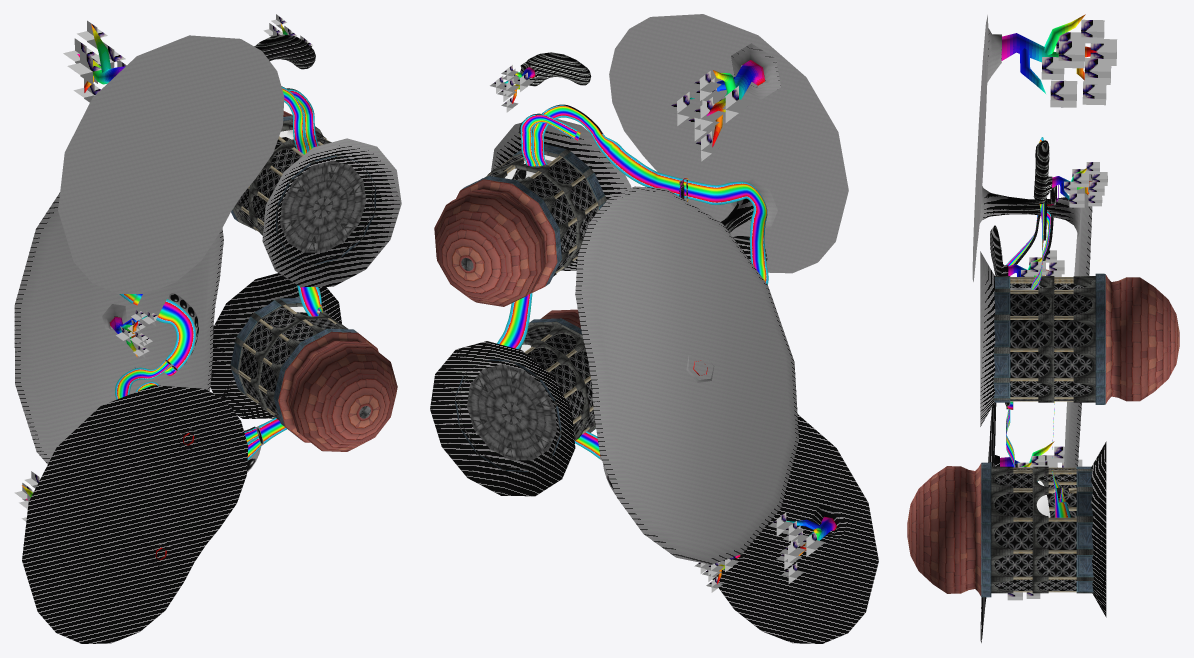
3 views of the same model, side by side, from view 1: azimuth 30°, elevation 25°; view 2: azimuth 150°, elevation 25°; view 3: azimuth 270°, elevation 25° (orthographic). The views are drawn at different scales.
Visible parts, largest first — view 1: dm_blackWhite.001, dm_roof.001, dm_stoneBrick2.001, dm_road2_cn.001, dm_windowMetal_cn_af.001, dm_star_cn_af.001, dm_stoneBrick.001, dm_roofDeco.001, dm_rainbow.001, dm_marble.001, dm_arrow_cn.001; view 2: dm_blackWhite.001, dm_roof.001, dm_stoneBrick2.001, dm_road2_cn.001, dm_windowMetal_cn_af.001, dm_star_cn_af.001, dm_stoneBrick.001, dm_roofDeco.001, dm_rainbow.001, dm_road_A.001, dm_marble.001; view 3: dm_roof.001, dm_windowMetal_cn_af.001, dm_blackWhite.001, dm_star_cn_af.001, dm_stoneBrick.001, dm_roofDeco.001, dm_marble.001, dm_rainbow.001, dm_road2_cn.001, dm_metal_M_cn_af.001.
Boxes of the visible parts, left/top/right/bottom form: dm_blackWhite.001: left=14, top=34, right=401, bottom=643; dm_roof.001: left=278, top=111, right=397, bottom=451; dm_stoneBrick2.001: left=280, top=160, right=370, bottom=418; dm_road2_cn.001: left=115, top=87, right=321, bottom=459; dm_windowMetal_cn_af.001: left=238, top=133, right=373, bottom=414; dm_star_cn_af.001: left=14, top=14, right=312, bottom=521; dm_stoneBrick.001: left=230, top=119, right=375, bottom=420; dm_roofDeco.001: left=230, top=115, right=375, bottom=439; dm_rainbow.001: left=22, top=23, right=287, bottom=560; dm_marble.001: left=238, top=136, right=337, bottom=415; dm_arrow_cn.001: left=132, top=293, right=323, bottom=472; dm_blackWhite.001: left=430, top=14, right=878, bottom=643; dm_roof.001: left=434, top=179, right=580, bottom=328; dm_stoneBrick2.001: left=461, top=258, right=556, bottom=460; dm_road2_cn.001: left=497, top=105, right=767, bottom=458; dm_windowMetal_cn_af.001: left=458, top=155, right=597, bottom=469; dm_star_cn_af.001: left=490, top=65, right=825, bottom=592; dm_stoneBrick.001: left=455, top=149, right=606, bottom=471; dm_roofDeco.001: left=455, top=144, right=605, bottom=471; dm_rainbow.001: left=504, top=60, right=836, bottom=584; dm_road_A.001: left=521, top=114, right=768, bottom=284; dm_marble.001: left=485, top=155, right=597, bottom=434; dm_roof.001: left=907, top=274, right=1179, bottom=596; dm_windowMetal_cn_af.001: left=994, top=280, right=1092, bottom=590; dm_blackWhite.001: left=972, top=15, right=1106, bottom=642; dm_star_cn_af.001: left=1007, top=19, right=1117, bottom=600; dm_stoneBrick.001: left=991, top=276, right=1095, bottom=593; dm_roofDeco.001: left=981, top=273, right=1105, bottom=597; dm_marble.001: left=1010, top=277, right=1076, bottom=592; dm_rainbow.001: left=1000, top=14, right=1097, bottom=467; dm_road2_cn.001: left=1006, top=137, right=1070, bottom=517; dm_metal_M_cn_af.001: left=1006, top=185, right=1062, bottom=502.
Bounding box in the file's own units: 77624 × 115334 × 44229.
Materials: 23 (23 with a texture image).
